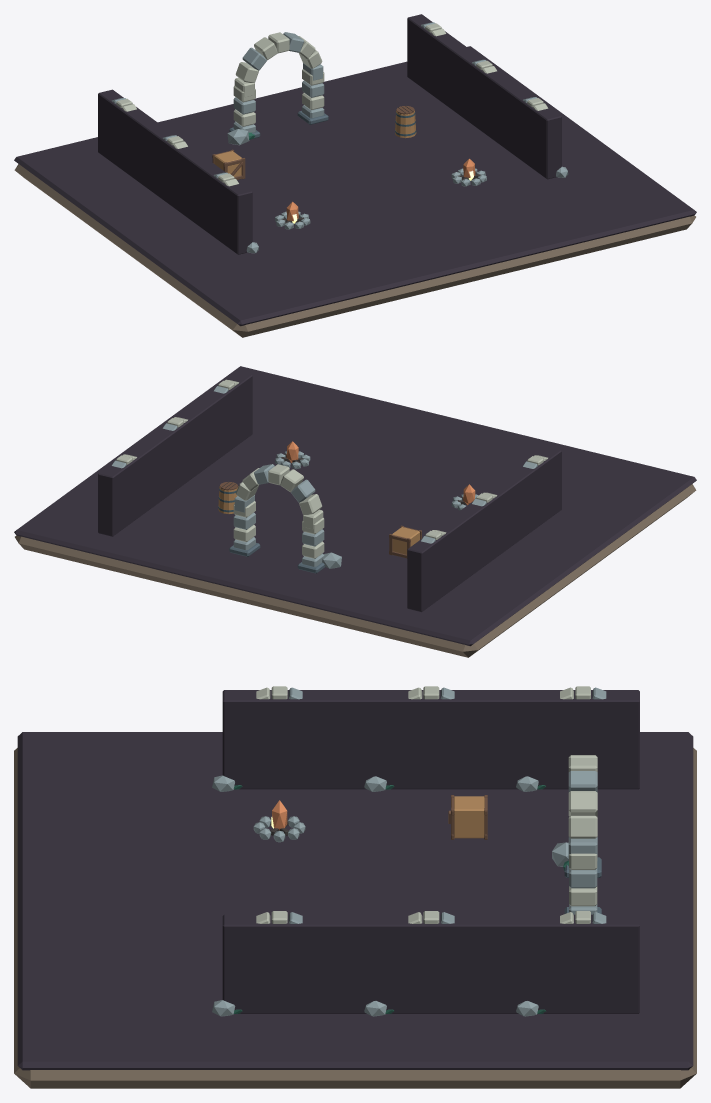
File: world-dungeon.glb
3 views of the same model, one above another, from view 1: azimuth 30°, elevation 25°; view 2: azimuth 150°, elevation 25°; view 3: azimuth 270°, elevation 25° (orthographic). The views are drawn at different scales.
Parts seen in each view (by area): view 1: terrain-top, dungeon-wall, dungeon-wall.001, terrain-stratum; view 2: terrain-top, dungeon-wall.001, dungeon-wall, terrain-stratum, crate-body.001; view 3: terrain-top, dungeon-wall.001, dungeon-wall, terrain-stratum, crate-body.001, arch-stone.065, arch-stone.064.
Part boxes in pixels (x1,y1,x2,y2): terrain-top: (14, 46, 696, 326); dungeon-wall: (98, 89, 252, 254); dungeon-wall.001: (407, 14, 561, 179); terrain-stratum: (14, 164, 695, 337); terrain-top: (14, 366, 696, 646); dungeon-wall.001: (98, 371, 252, 536); dungeon-wall: (407, 447, 561, 611); terrain-stratum: (15, 484, 696, 657); crate-body.001: (392, 527, 419, 554); terrain-top: (17, 732, 693, 1070); dungeon-wall.001: (222, 914, 639, 1013); dungeon-wall: (222, 690, 639, 789); terrain-stratum: (14, 748, 696, 1088); crate-body.001: (454, 796, 484, 838); arch-stone.065: (568, 791, 597, 816); arch-stone.064: (568, 815, 597, 838).
Size of the model in its own units: 21 by 4.82 by 18.
